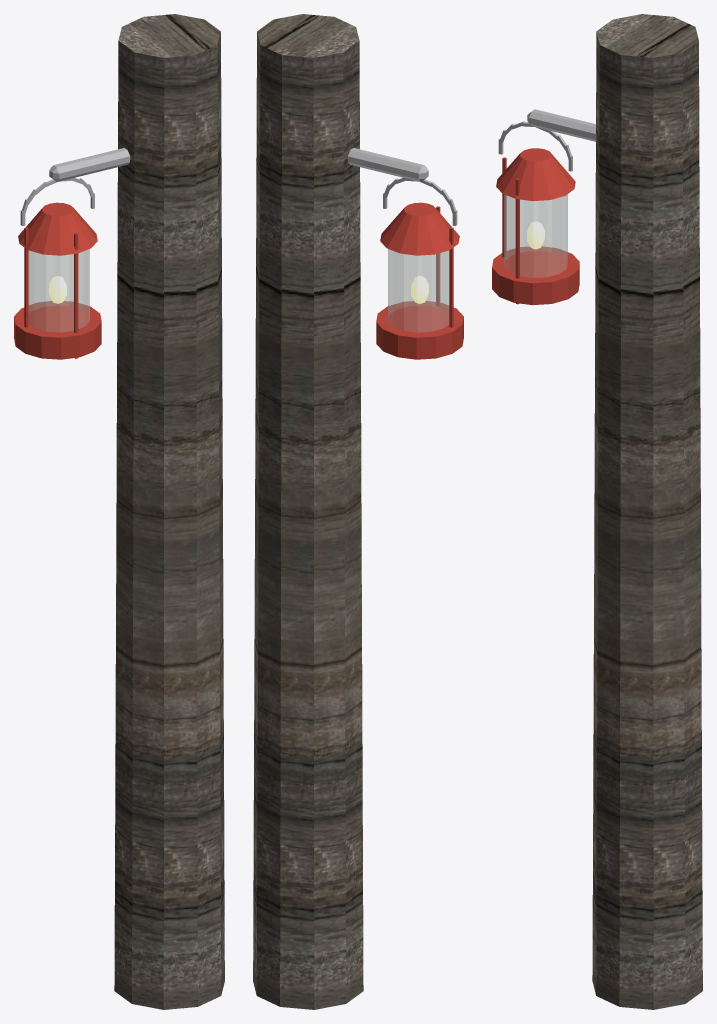
Rendered from farm_lantern_a.glb.
3 renders of one model, left to right at view 1: azimuth 30°, elevation 25°; view 2: azimuth 150°, elevation 25°; view 3: azimuth 330°, elevation 25°, orthographic.
Parts seen in each view (by area): view 1: farm_lantern_a_LOD0; view 2: farm_lantern_a_LOD0; view 3: farm_lantern_a_LOD0.
Part boxes in pixels (x1,y1,x2,y2): farm_lantern_a_LOD0: (14, 14, 224, 1009); farm_lantern_a_LOD0: (253, 14, 463, 1009); farm_lantern_a_LOD0: (492, 14, 702, 1009).
Size of the model in its own units: 0.2802 by 1.3 by 0.14.
Materials: 5 (1 with a texture image).
